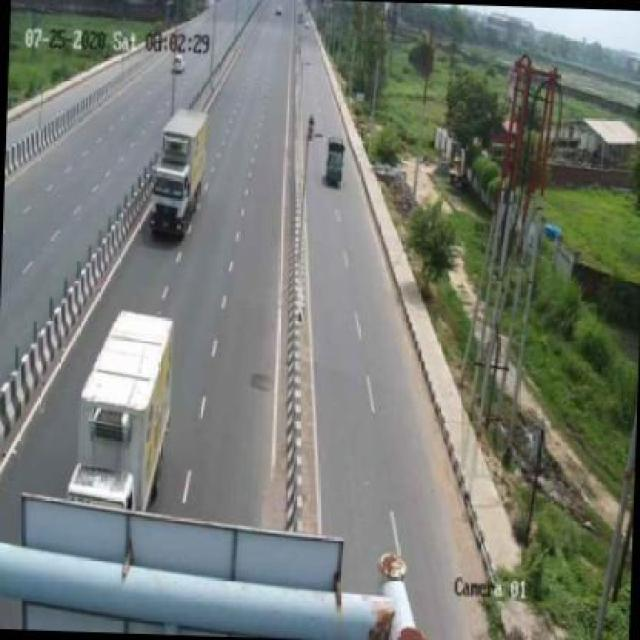car: (322, 134, 351, 194)
